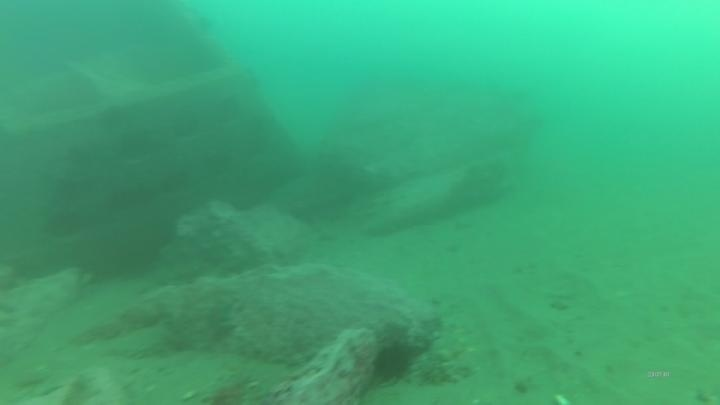echinus: (369, 340, 416, 385), (40, 205, 87, 243)
